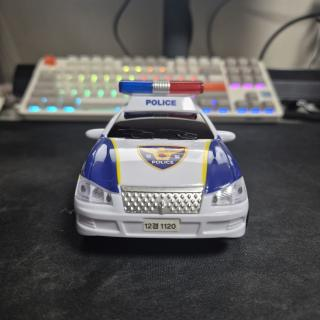Police_car: (74, 81, 248, 238)
